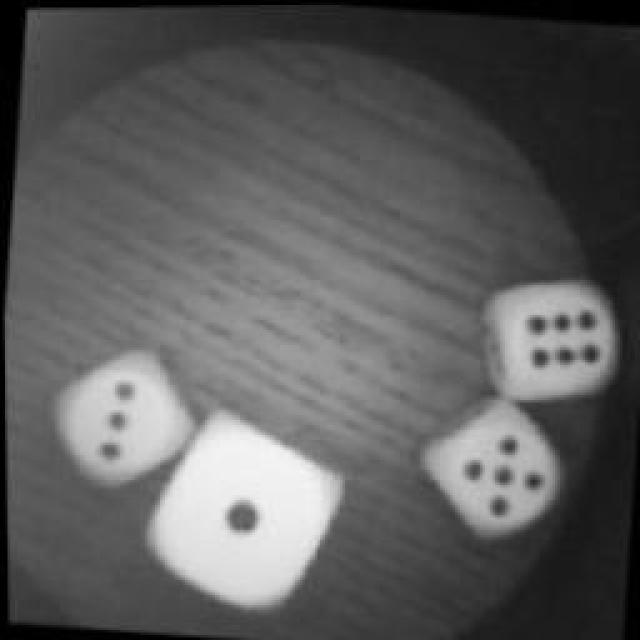dice_1: (136, 395, 346, 620)
dice_3: (42, 336, 188, 494)
dice_5: (424, 392, 578, 550)
dice_6: (472, 272, 630, 416)
